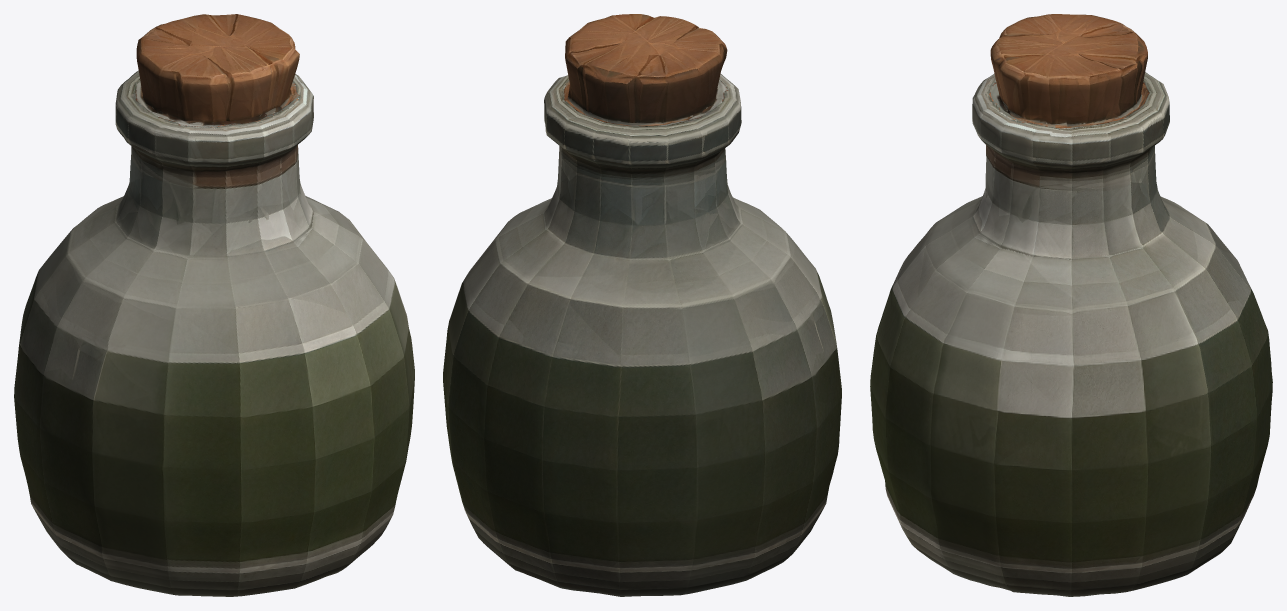
Rendered from Prop_Bottle_Green.fbx.
3 views of the same model, side by side, from view 1: azimuth 30°, elevation 25°; view 2: azimuth 150°, elevation 25°; view 3: azimuth 270°, elevation 25° (orthographic).
Visible parts, largest first — view 1: texture_mapping; view 2: texture_mapping; view 3: texture_mapping.
Part boxes in pixels (bbox=[...]): texture_mapping: bbox=[14, 14, 414, 596]; texture_mapping: bbox=[443, 14, 841, 596]; texture_mapping: bbox=[870, 14, 1272, 596].
Size of the model in its own units: 0.7362 by 0.7367 by 0.9906.
Materials: 1 (1 with a texture image).
